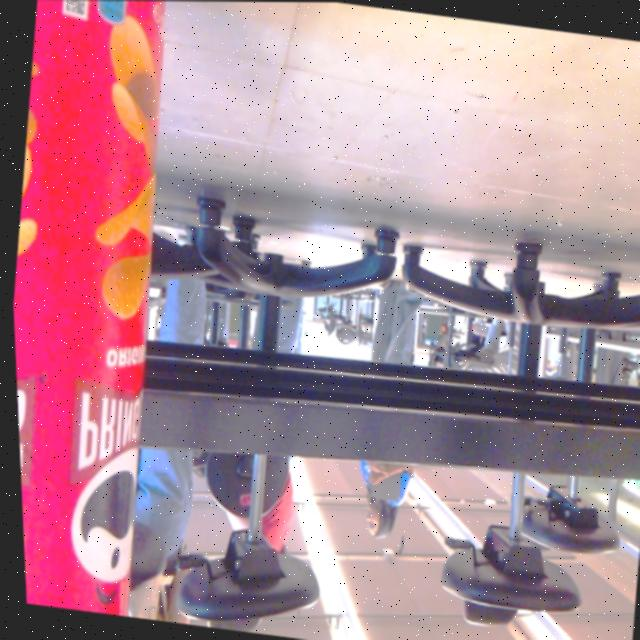redpringles: (0, 0, 241, 621)
